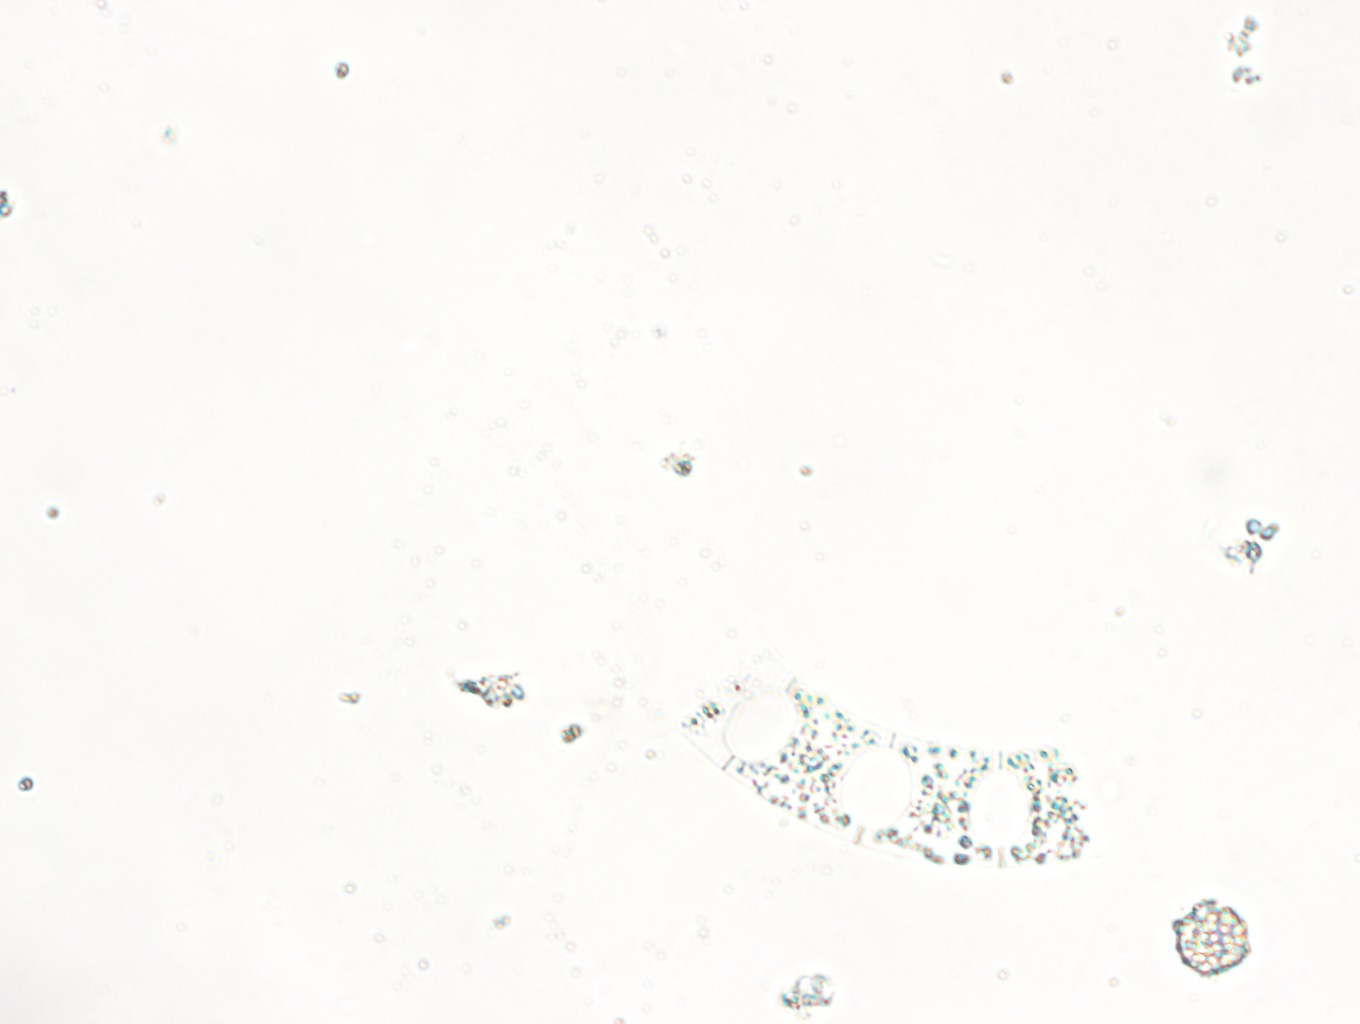eucampia: (665, 632, 1101, 874)
